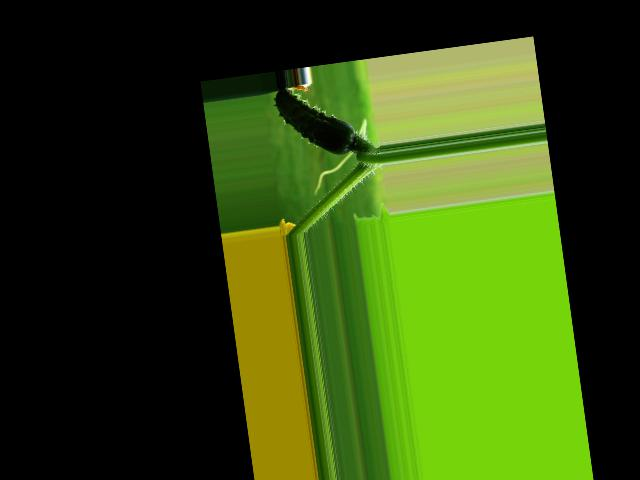cucumber: (272, 80, 357, 163)
